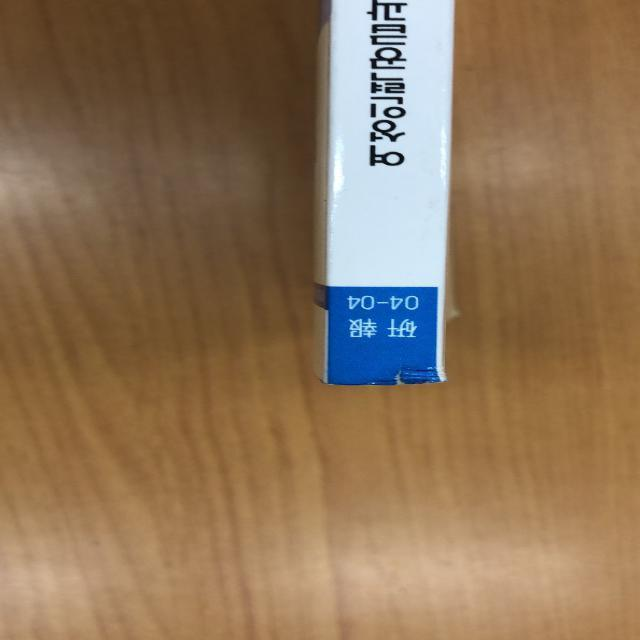Ripped: (380, 358, 453, 403)
Wornout: (313, 363, 380, 401)
